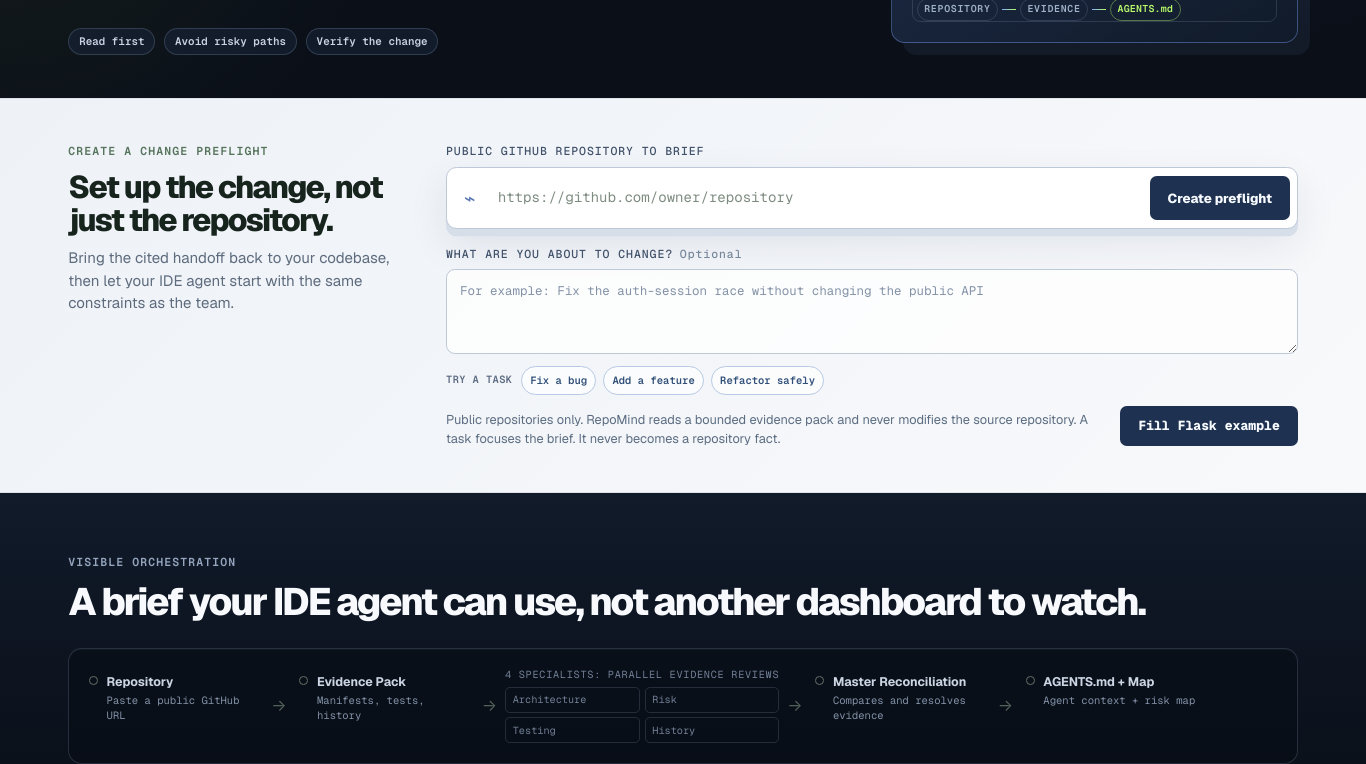
Test: RepoMindApp › offers focused task starters for a developer about to begin work
(page scrolled)
Click the button "Fix a bug".
click(559, 380)  # box top-left (521, 366), bottom-right (596, 395)
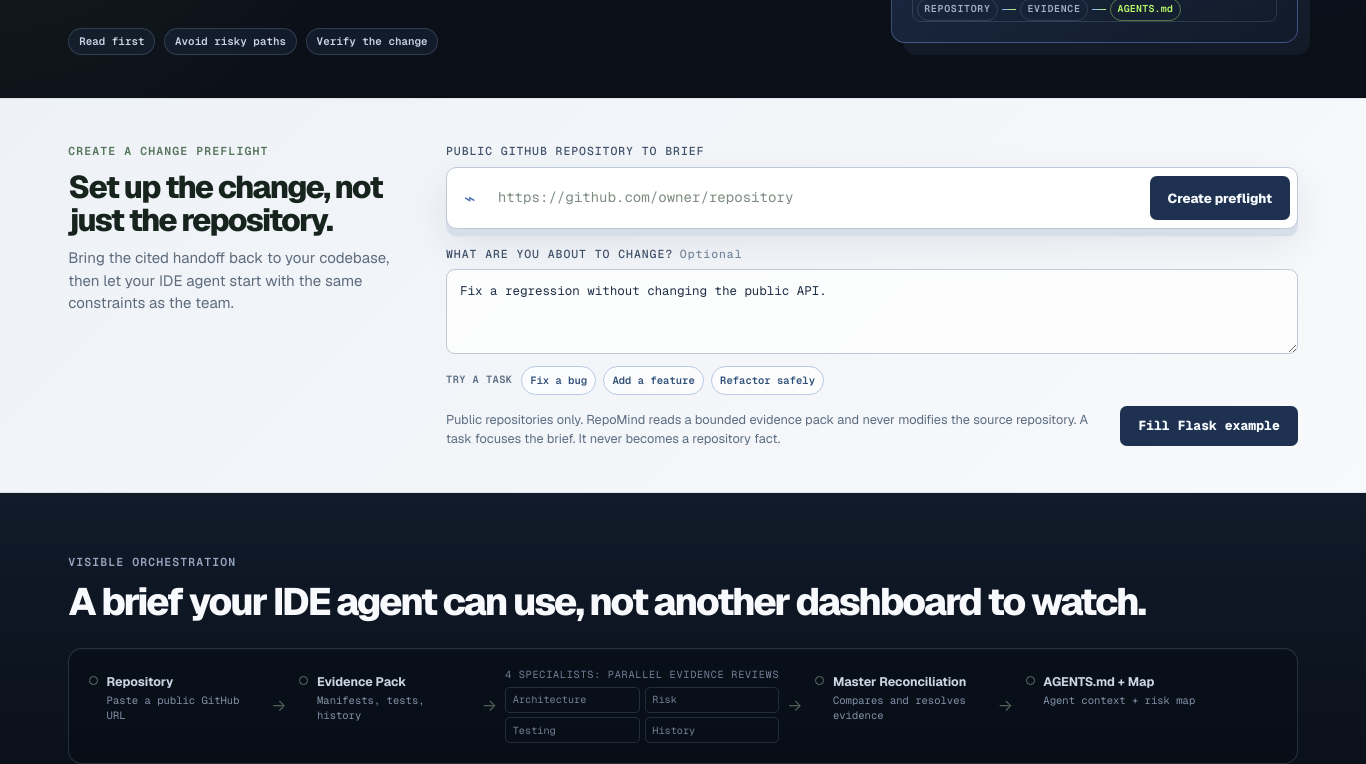
Result: the text box labelled "What are you about to change? Optional" holds "Fix a regression without changing the public API." at top-left (446, 269), bottom-right (1298, 354)
